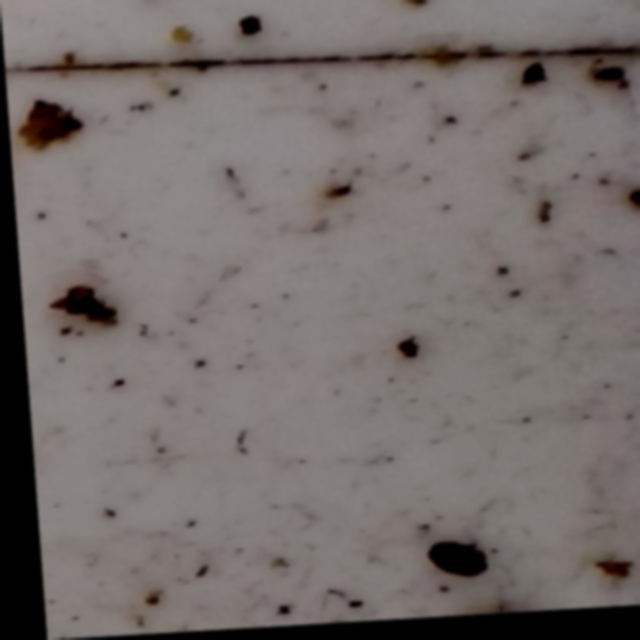varroa: (416, 542, 483, 588)
